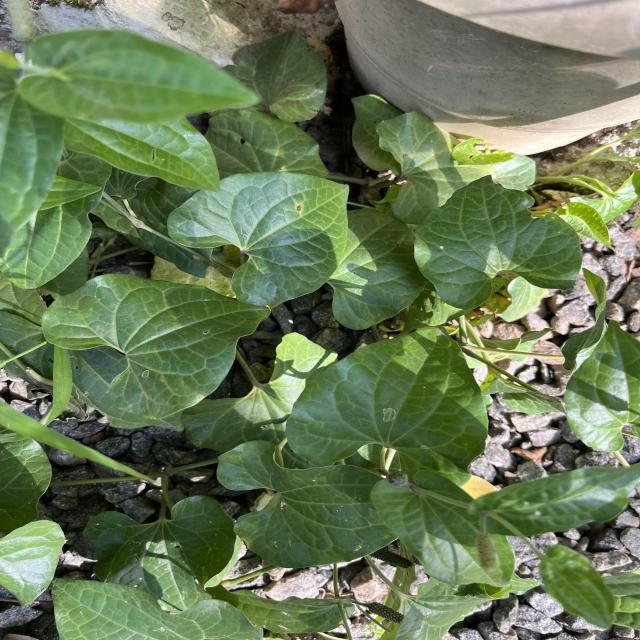Piper longum: (38, 272, 274, 424), (283, 324, 491, 486), (165, 168, 352, 309), (410, 169, 586, 312)
